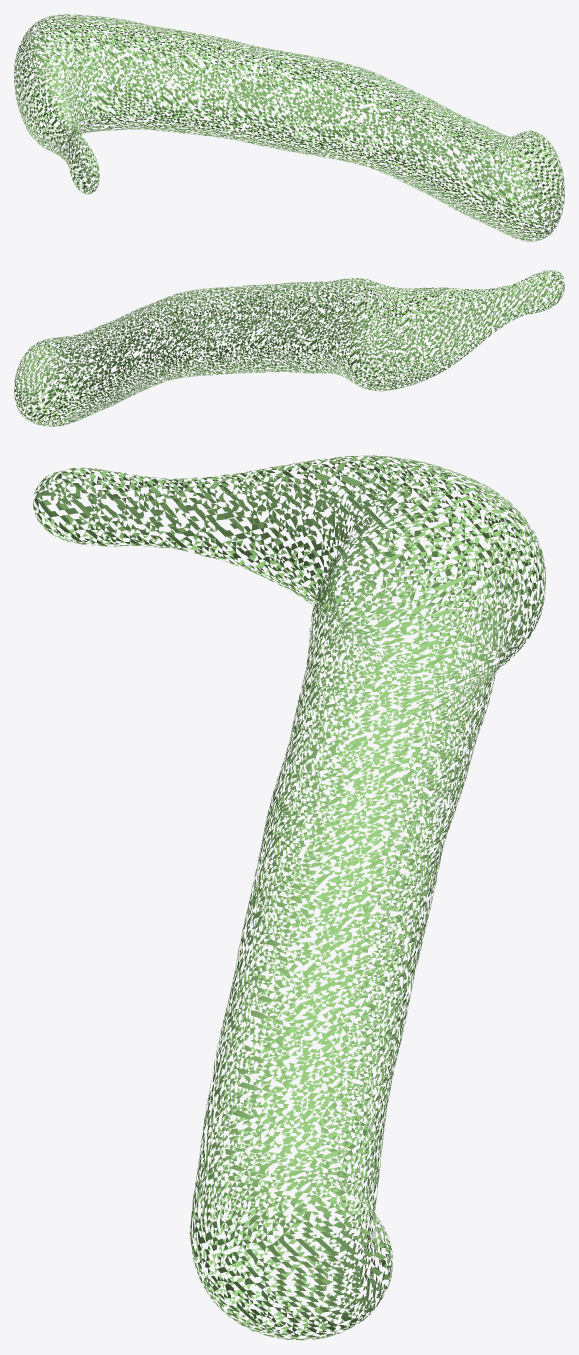
File: morph_014.glb
3 views of the same model, one above another, from view 1: azimuth 30°, elevation 25°; view 2: azimuth 150°, elevation 25°; view 3: azimuth 270°, elevation 25° (orthographic). The views are drawn at different scales.
Size of the model in its own units: 125 by 62.57 by 58.67.
